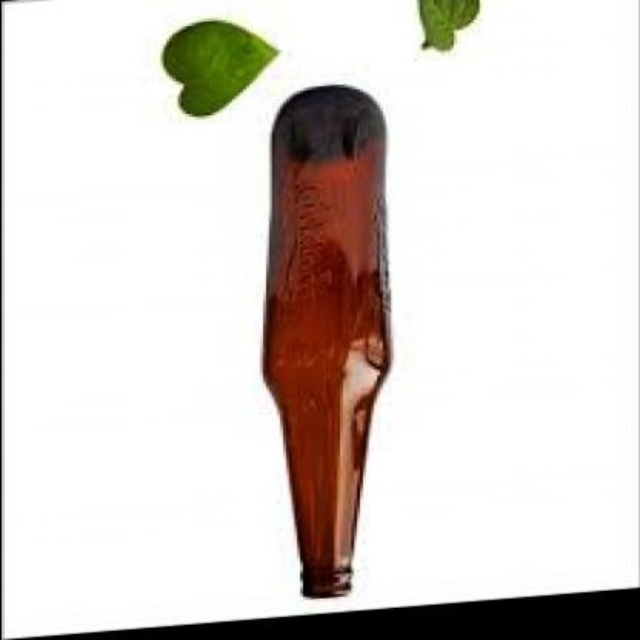trash: (263, 86, 389, 597)
